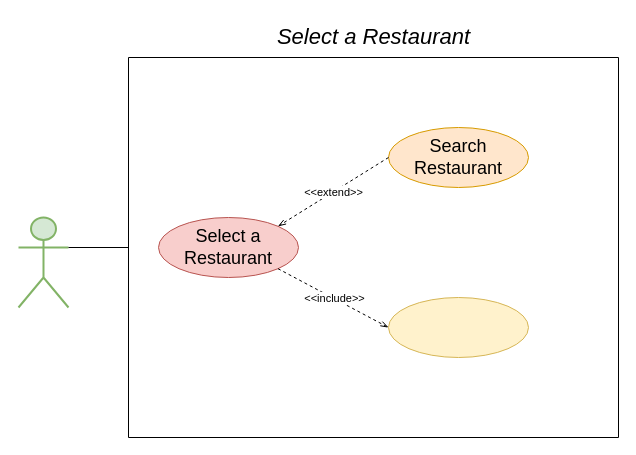
The diagram is 636 pixels wide and 455 high, and some of its shapes have lost their labels. Here are the shapes that lost their labels. From the top down, the box of each, then its label:
(17, 216, 69, 308): Client
(388, 296, 528, 358): View Restaurant Details
